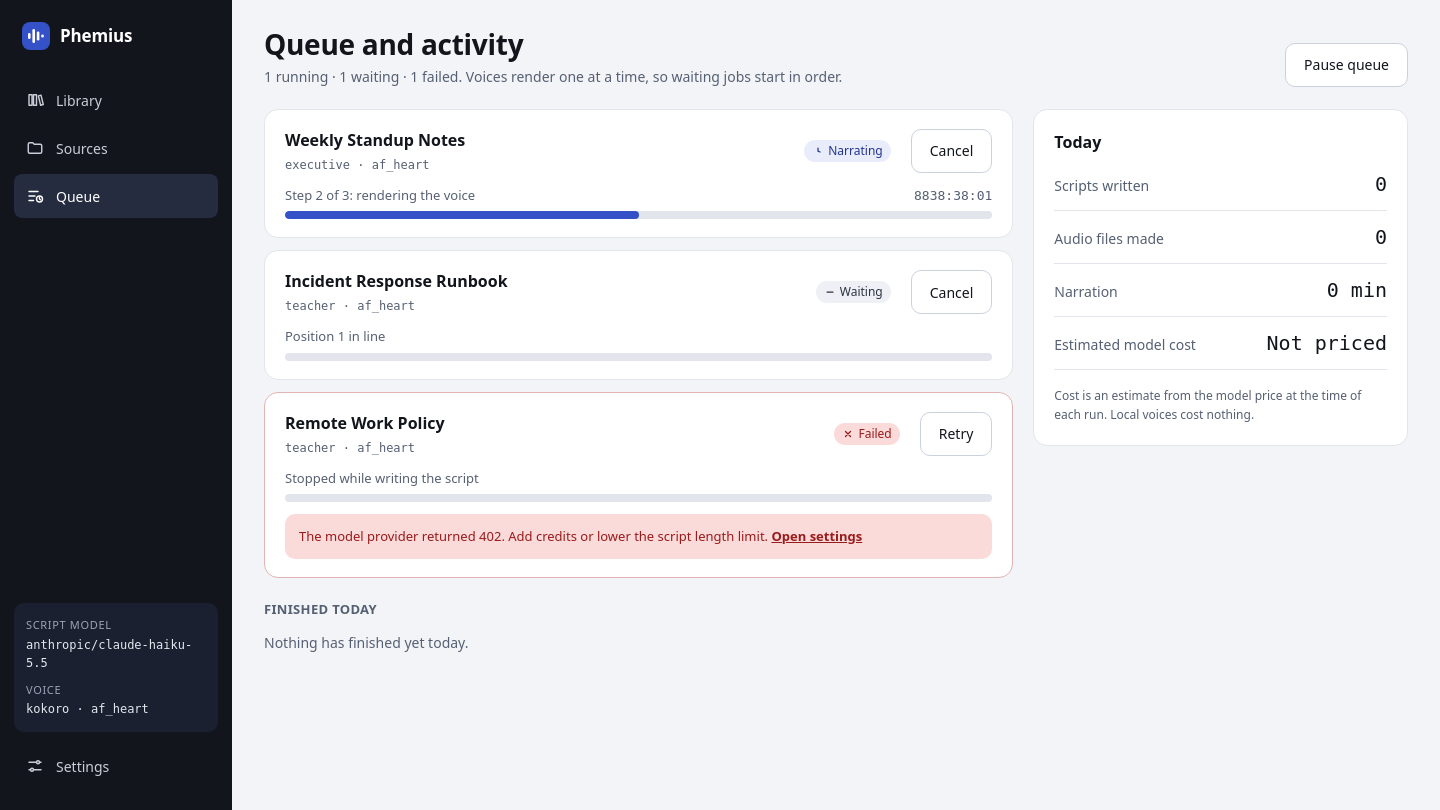
Test case: queue › explains a failed job and re-queues it on Retry
Check: the element "Weekly Standup Notes" is shown, box top-left (264, 109), bottom-right (1013, 238)
Check: the text "Failed" is shown, box top-left (834, 423), bottom-right (900, 445)
Click the button "Retry" at (956, 434), box top-left (920, 412), bottom-right (992, 456)
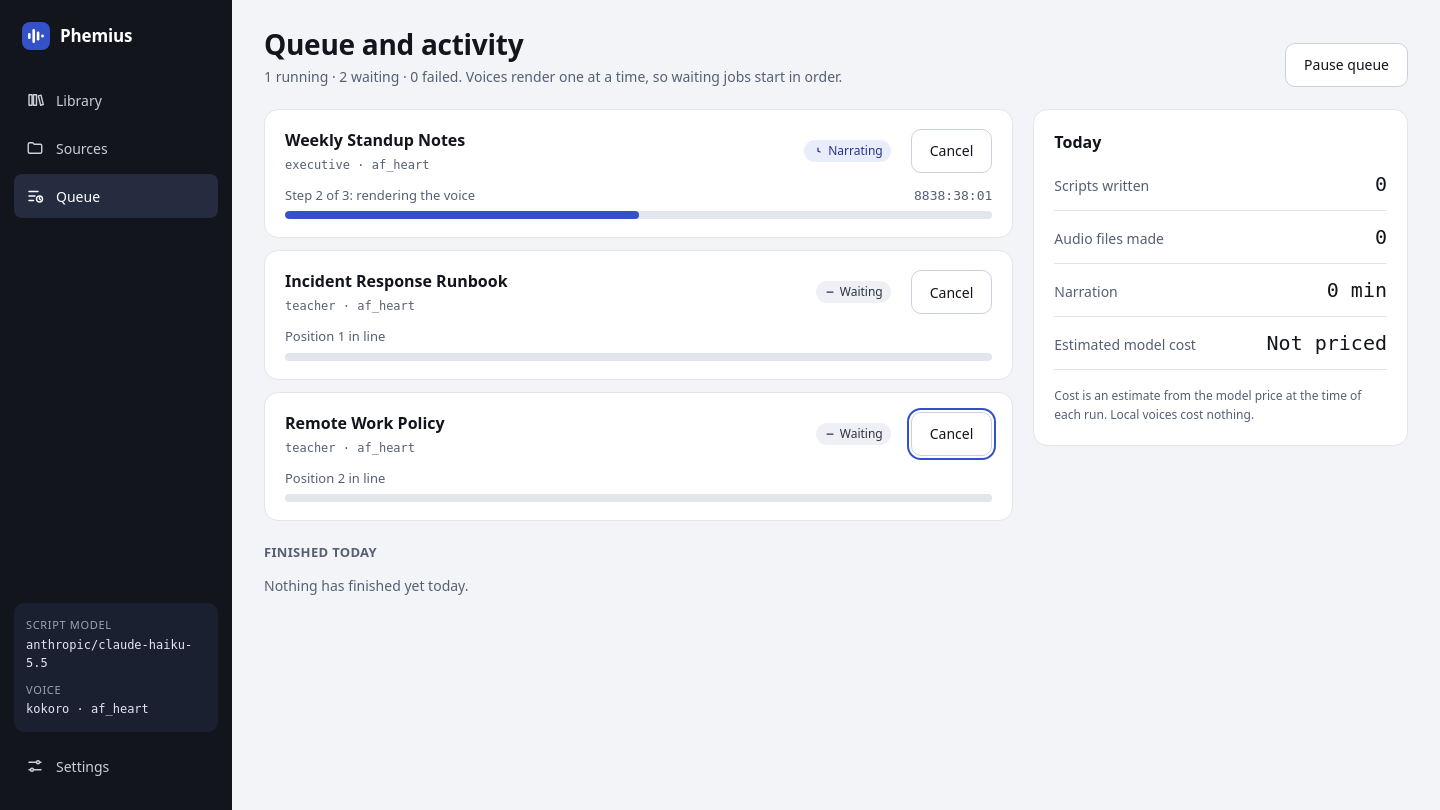
Check: the text "Waiting" in the row of "Remote Work Policy" is shown, box top-left (840, 425), bottom-right (883, 442)
Check: the text "returned 402" is gone
